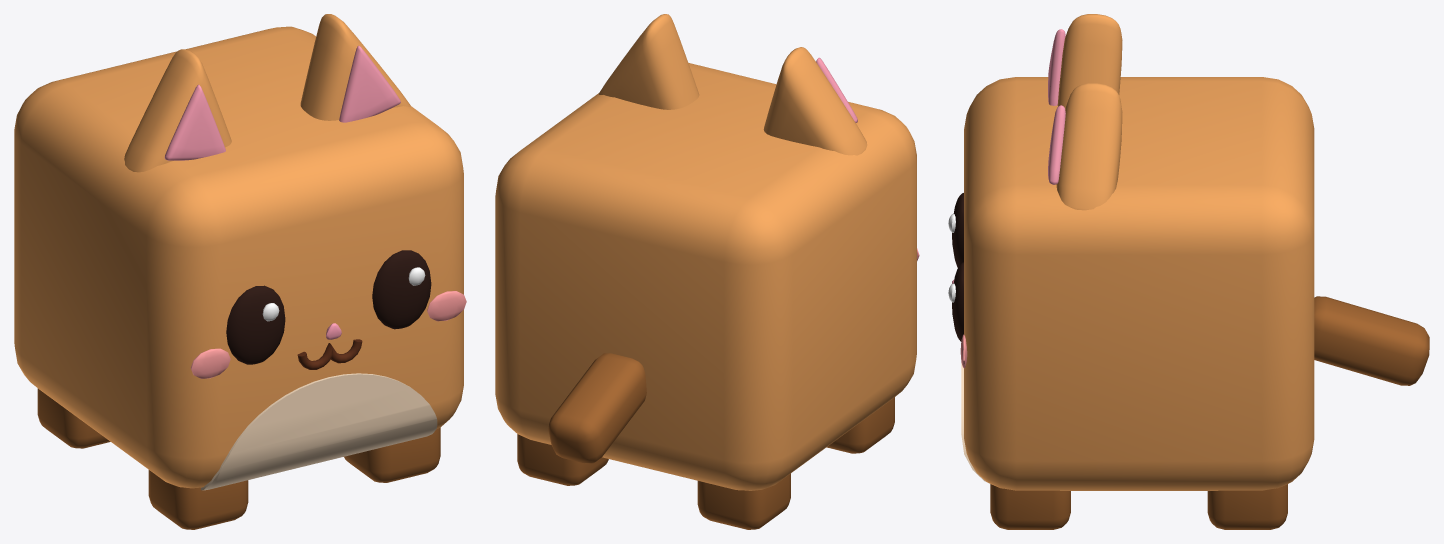
File: Kitty.glb
3 views of the same model, side by side, from view 1: azimuth 30°, elevation 25°; view 2: azimuth 150°, elevation 25°; view 3: azimuth 270°, elevation 25° (orthographic). The views are drawn at different scales.
Visible parts, largest first — view 1: Kitty; view 2: Kitty; view 3: Kitty.
Boxes of the visible parts, x1,y1,x2,y2 form: Kitty: (14,14,466,529); Kitty: (495,14,919,529); Kitty: (948,14,1429,529).
Bounding box in the file's own units: 2 × 2.67 × 2.75.
Materials: 1 (1 with a texture image).
